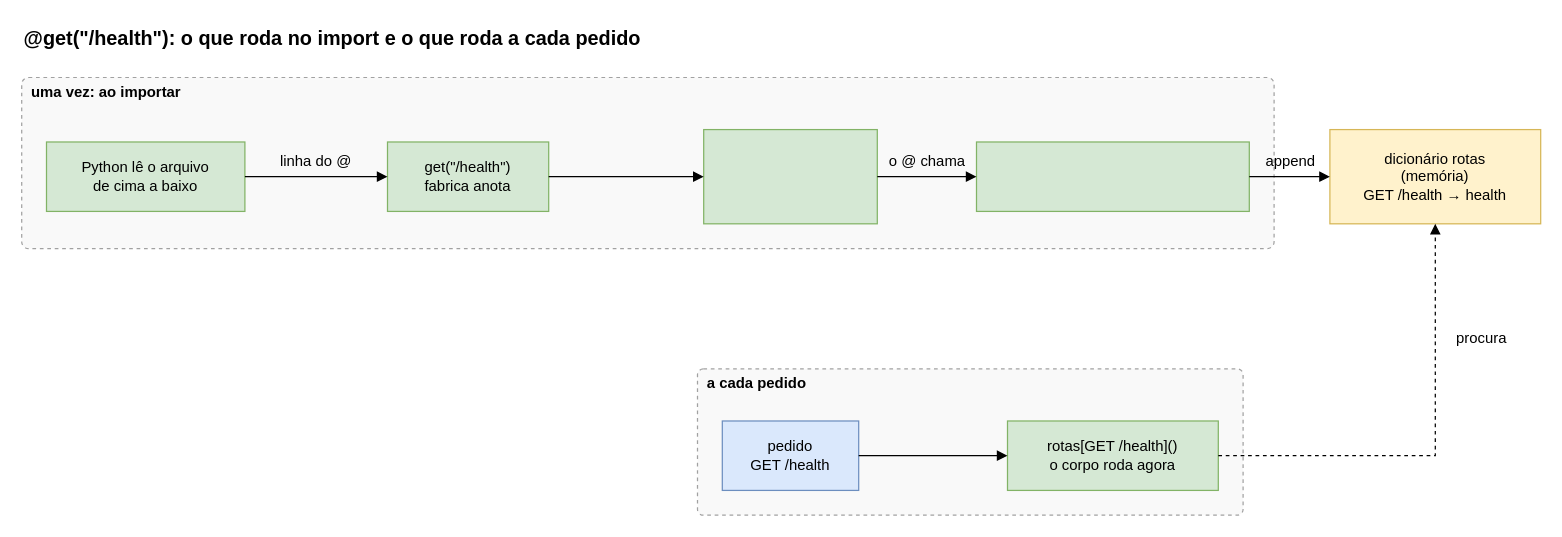
The diagram is 1562 pixels wide and 537 high, and some of its shapes have lost their labels. The centre of each missing label's shape, as x and y in pixels:
"anota(health) rotas[GET /health] = health" belongs at point 1112,176.
"def health cria a função (corpo não roda)" belongs at point 789,176.
